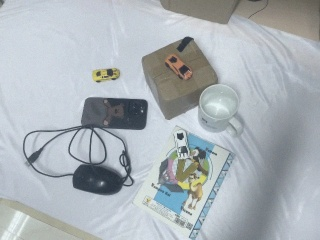book: (129, 123, 237, 238)
box: (141, 35, 220, 122), (159, 1, 244, 26)
cup: (197, 84, 240, 133)
mouse: (72, 162, 124, 196)
phone: (82, 97, 151, 129)
toy_car: (164, 55, 193, 81), (172, 129, 192, 161), (92, 67, 121, 84)
